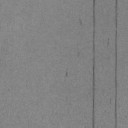surface scratch: (88, 0, 96, 128), (114, 0, 118, 128), (107, 38, 110, 47), (79, 19, 82, 26), (78, 52, 80, 57), (66, 72, 68, 76)
